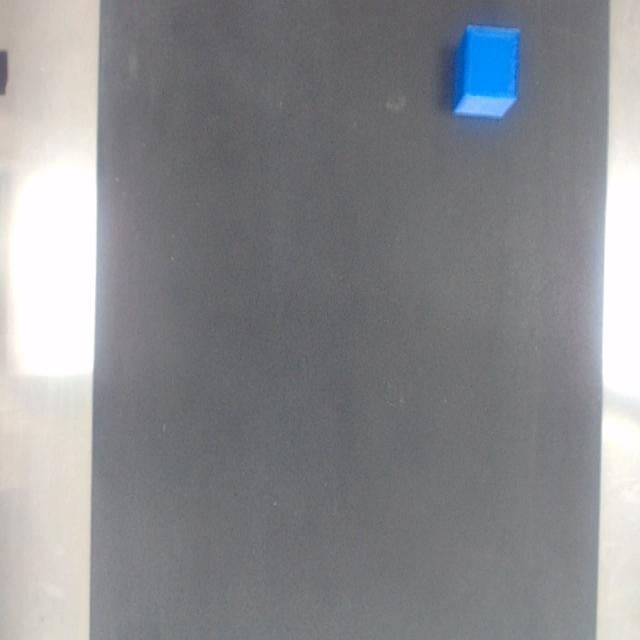Azul: (452, 25, 520, 119)
